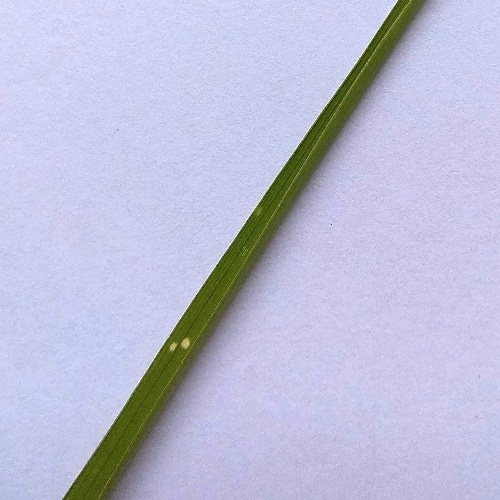Busuk Leher: (166, 329, 193, 360), (250, 195, 269, 225)
